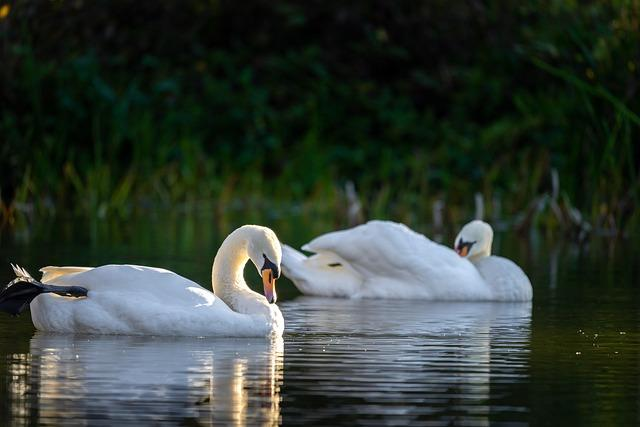Non_Gorille: (13, 92, 604, 386)
